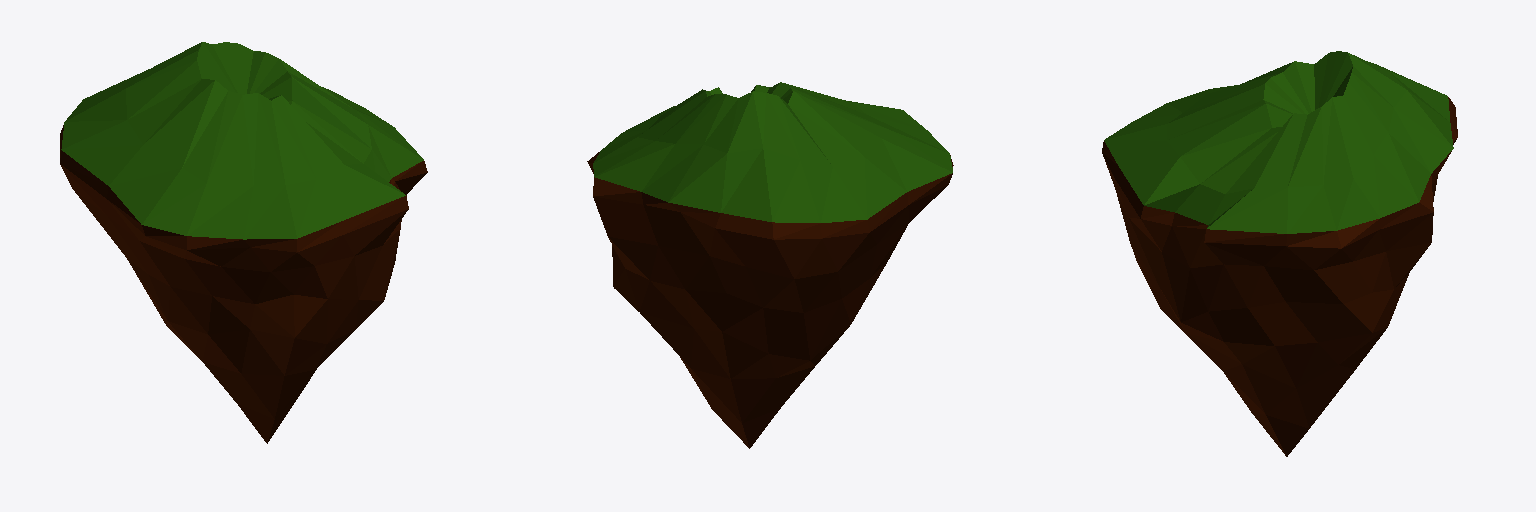
Rendered from large_island.obj.
The picture shows the model from 3 angles: view 1: azimuth 30°, elevation 25°; view 2: azimuth 150°, elevation 25°; view 3: azimuth 270°, elevation 25°; orthographic projection.
Parts seen in each view (by area): view 1: Icosphere.001; view 2: Icosphere.001; view 3: Icosphere.001.
Part boxes in pixels (x1,y1,x2,y2): Icosphere.001: (60, 42, 427, 443); Icosphere.001: (587, 82, 953, 448); Icosphere.001: (1102, 51, 1457, 456).
Bounding box in the file's own units: 23.5 × 29.12 × 24.21.